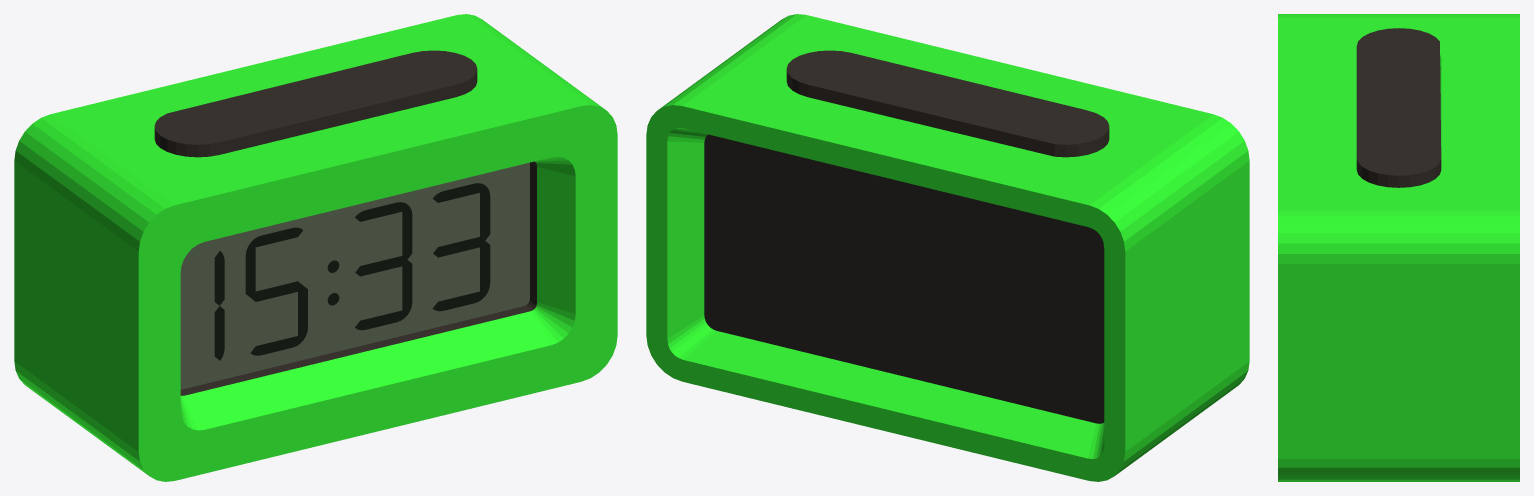
The model's file is Cesium_AlarmClock.fbx.
The picture shows the model from 3 angles, left to right: view 1: azimuth 30°, elevation 25°; view 2: azimuth 150°, elevation 25°; view 3: azimuth 270°, elevation 25°; orthographic projection. The views are drawn at different scales.
Visible parts, largest first — view 1: Cesium_AlarmClock-COM-Group_1-70389-Color_G02, Cesium_AlarmClock-COM-Group_1-70389-Color_F20, Cesium_AlarmClock-COM-Group_1-70389-Color_C25, Cesium_AlarmClock-COM-Group_1-70389-Material1; view 2: Cesium_AlarmClock-COM-Group_1-70389-Color_G02, Cesium_AlarmClock-COM-Group_1-70389-Material2, Cesium_AlarmClock-COM-Group_1-70389-Color_C25; view 3: Cesium_AlarmClock-COM-Group_1-70389-Color_G02, Cesium_AlarmClock-COM-Group_1-70389-Color_C25.
Part boxes in pixels (left/top/right/bottom): Cesium_AlarmClock-COM-Group_1-70389-Color_G02: left=14, top=14, right=617, bottom=481; Cesium_AlarmClock-COM-Group_1-70389-Color_F20: left=180, top=162, right=529, bottom=389; Cesium_AlarmClock-COM-Group_1-70389-Color_C25: left=154, top=50, right=536, bottom=395; Cesium_AlarmClock-COM-Group_1-70389-Material1: left=214, top=183, right=490, bottom=360; Cesium_AlarmClock-COM-Group_1-70389-Color_G02: left=646, top=14, right=1249, bottom=481; Cesium_AlarmClock-COM-Group_1-70389-Material2: left=704, top=134, right=1104, bottom=423; Cesium_AlarmClock-COM-Group_1-70389-Color_C25: left=786, top=50, right=1109, bottom=157; Cesium_AlarmClock-COM-Group_1-70389-Color_G02: left=1278, top=14, right=1519, bottom=481; Cesium_AlarmClock-COM-Group_1-70389-Color_C25: left=1356, top=28, right=1441, bottom=187.
Size of the model in its own units: 0.127 by 0.073 by 0.0571.
